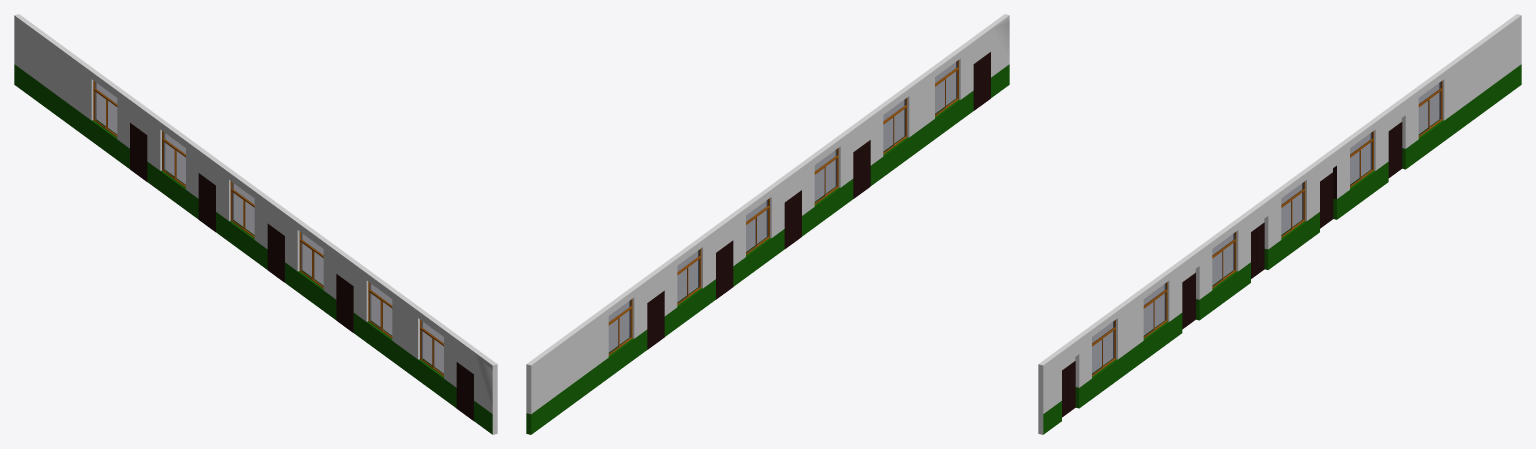
3 renders of one model, left to right at view 1: azimuth 30°, elevation 25°; view 2: azimuth 150°, elevation 25°; view 3: azimuth 330°, elevation 25°, orthographic.
Parts seen in each view (by area): view 1: Box239; view 2: Box239; view 3: Box239.
Part boxes in pixels (<box>): Box239: <box>14,14,497,434</box>; Box239: <box>526,14,1009,434</box>; Box239: <box>1038,14,1521,434</box>.
Bounding box in the file's own units: 26.1 × 335 × 4178.
